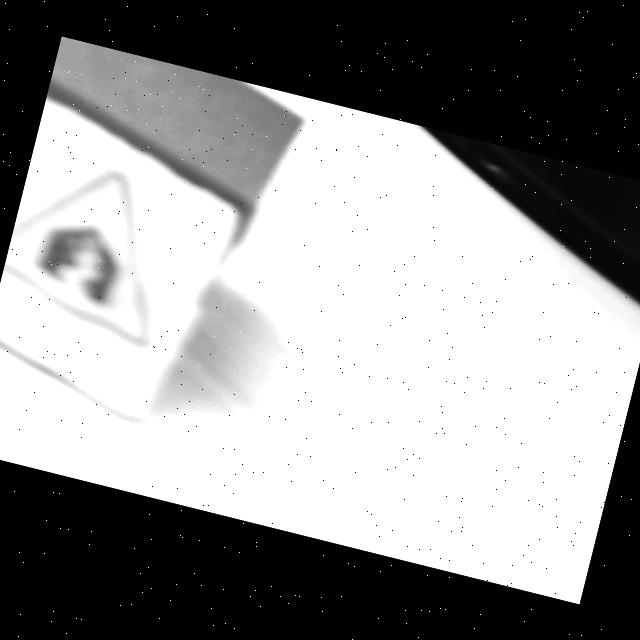Earthquake: (3, 170, 148, 343)
